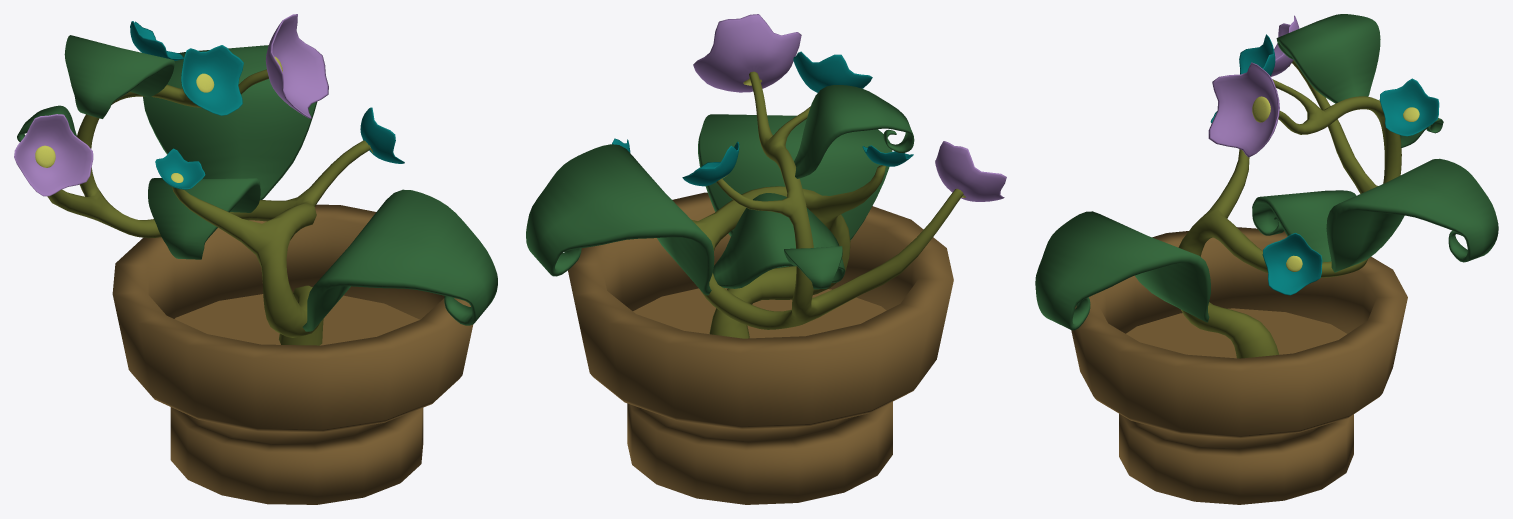
Rendered from cicek.fbx.
3 views of the same model, side by side, from view 1: azimuth 30°, elevation 25°; view 2: azimuth 150°, elevation 25°; view 3: azimuth 270°, elevation 25° (orthographic). The views are drawn at different scales.
Visible parts, largest first — view 1: C_pot; view 2: C_pot; view 3: C_pot.
Part boxes in pixels (x1,y1,x2,y2): C_pot: (14, 14, 497, 504); C_pot: (526, 14, 1006, 504); C_pot: (1035, 14, 1498, 504).
Bounding box in the file's own units: 86.38 × 83.15 × 89.52.
